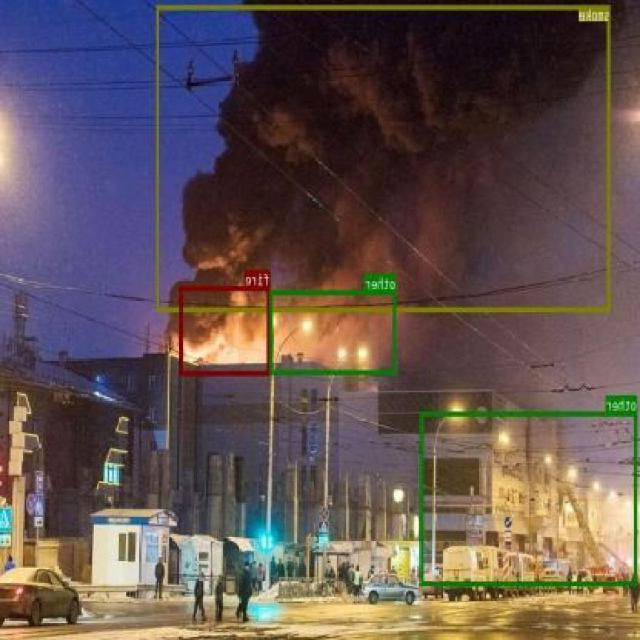Fire: (180, 286, 271, 374)
Smoke: (157, 3, 611, 312)
